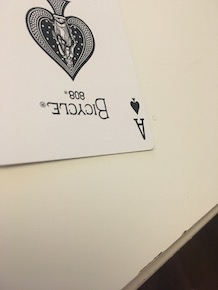AceOfSpades: (1, 1, 157, 169)
